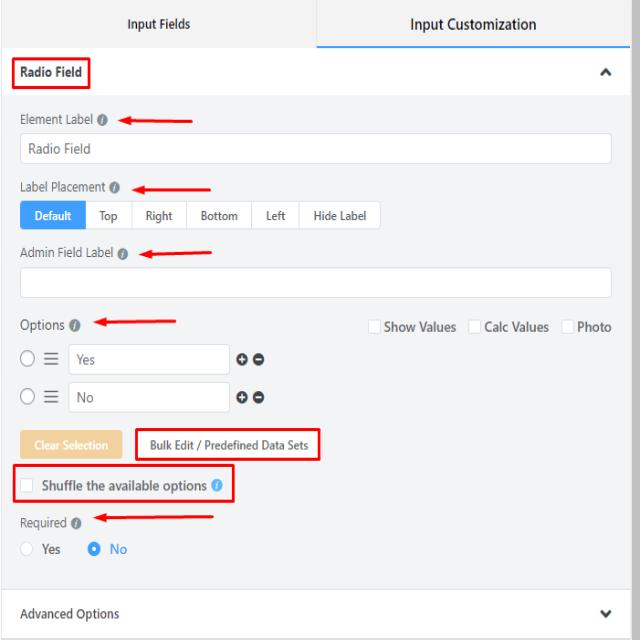Button: (296, 200, 389, 236), (184, 196, 256, 238), (248, 197, 312, 241), (16, 198, 88, 235), (130, 196, 190, 236), (92, 196, 134, 236)
Check-box: (364, 314, 461, 345), (470, 313, 553, 343), (558, 317, 623, 340)
Drop-down: (588, 597, 620, 629), (589, 61, 622, 90)
Input-field: (16, 111, 617, 171), (20, 246, 617, 302)
Radio: (19, 341, 235, 382), (22, 384, 236, 414), (19, 537, 68, 570), (86, 542, 136, 565)
Text: (408, 15, 540, 39), (120, 15, 205, 35)
